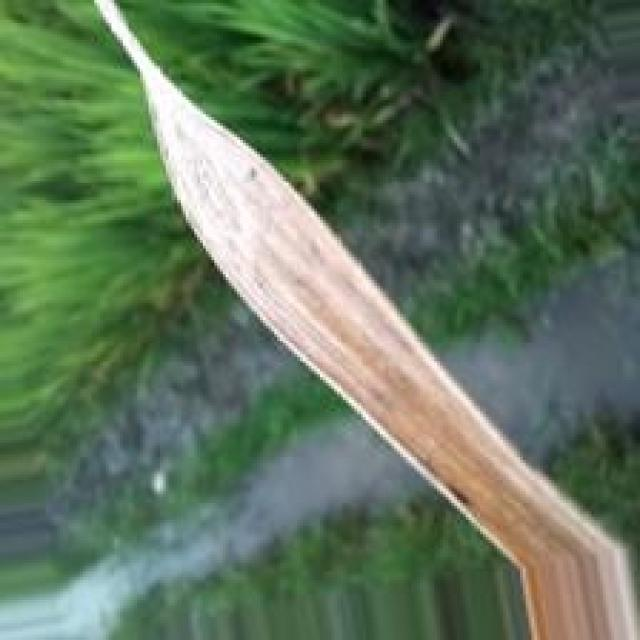Leaf_Scald: (137, 52, 628, 567)
